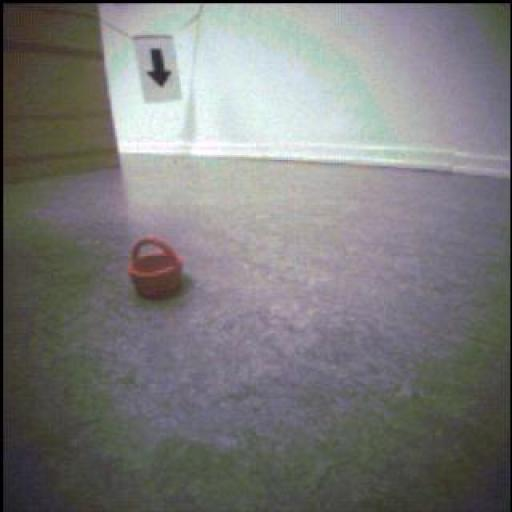Arrow: (148, 51, 172, 88)
Bucket: (129, 238, 183, 300)
